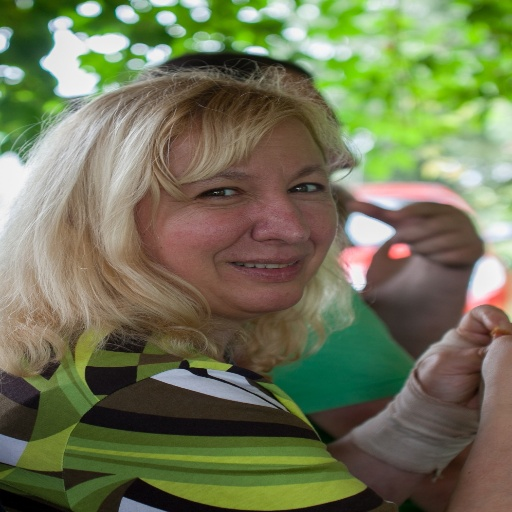hand: (411, 301, 511, 432), (369, 191, 497, 288), (479, 333, 511, 409)
